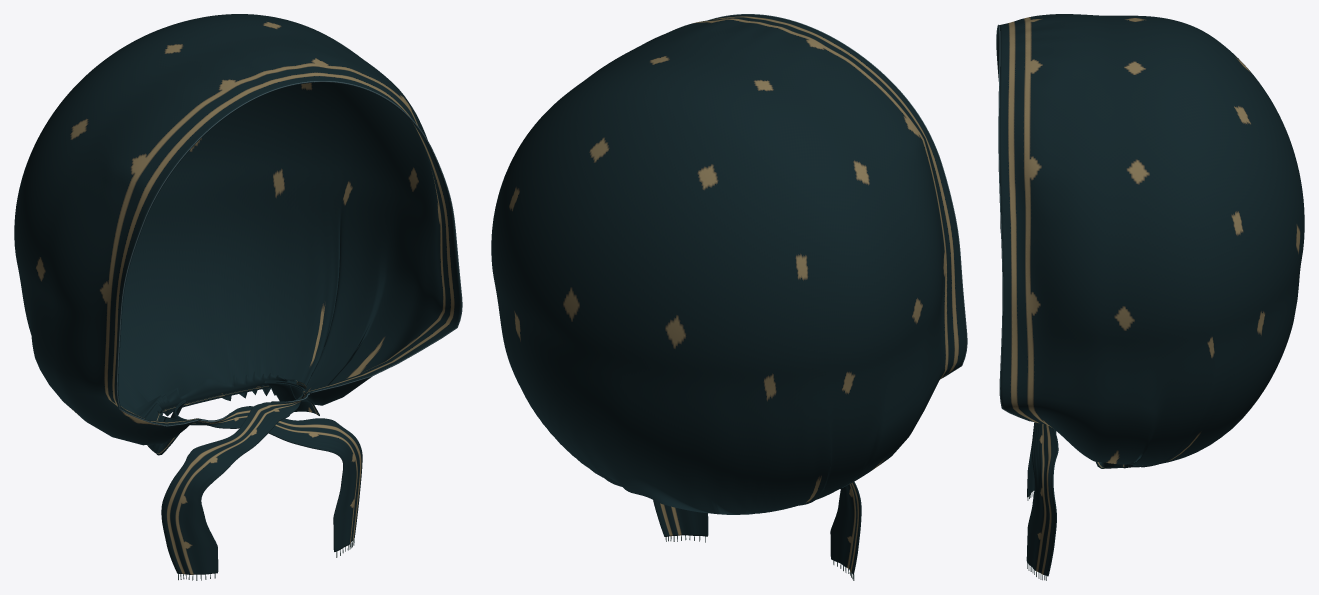
The model's file is Masculine-taper-jersey-pashmina250-headgear.glb.
3 views of the same model, side by side, from view 1: azimuth 30°, elevation 25°; view 2: azimuth 150°, elevation 25°; view 3: azimuth 270°, elevation 25° (orthographic). The views are drawn at different scales.
Parts seen in each view (by area): view 1: 226 headgear / Headwear / continuous woven pashmina239, 226 headgear / Headwear / face edge239; view 2: 226 headgear / Headwear / continuous woven pashmina239, 226 headgear / Headwear / face edge239; view 3: 226 headgear / Headwear / continuous woven pashmina239, 226 headgear / Headwear / face edge239.
Boxes of the visible parts, x1,y1,x2,y2 form: 226 headgear / Headwear / continuous woven pashmina239: (14,14,461,574); 226 headgear / Headwear / face edge239: (116,81,462,426); 226 headgear / Headwear / continuous woven pashmina239: (491,14,966,574); 226 headgear / Headwear / face edge239: (708,14,967,378); 226 headgear / Headwear / continuous woven pashmina239: (996,14,1304,576); 226 headgear / Headwear / face edge239: (996,24,1031,421).
Size of the model in its own units: 1.07 by 1.38 by 0.7639.
3 materials, 1 textured.
